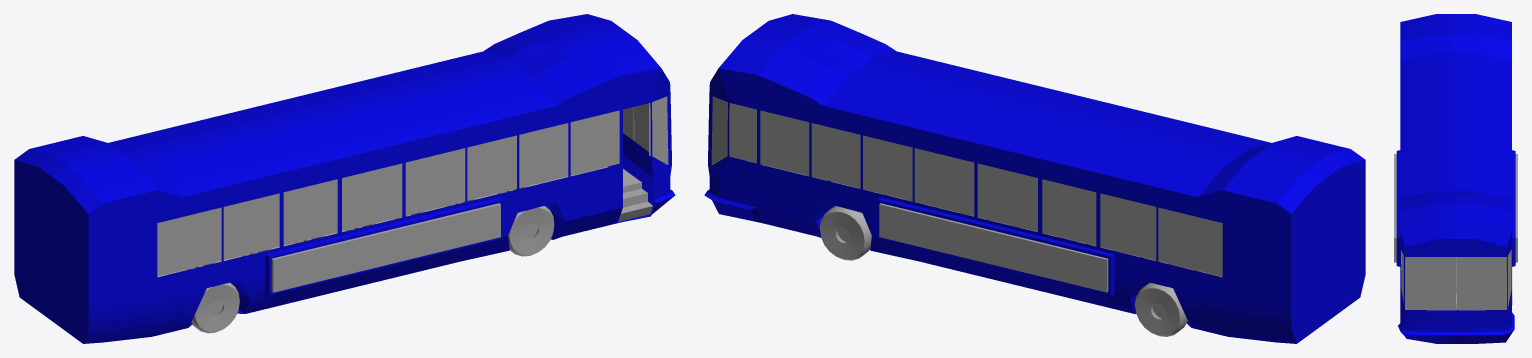
Rendered from bus.fbx.
The picture shows the model from 3 angles, left to right: view 1: azimuth 30°, elevation 25°; view 2: azimuth 150°, elevation 25°; view 3: azimuth 270°, elevation 25°; orthographic projection. The views are drawn at different scales.
Visible parts, largest first — view 1: Autobus:pCube26, Autobus:pCube23, Autobus:pCube25, Autobus:pPipe4, Autobus:pPipe3, Autobus:pCube3; view 2: Autobus:pCube26, Autobus:pCube23, Autobus:pCube24, Autobus:pPipe5, Autobus:pPipe6; view 3: Autobus:pCube26, Autobus:pCube23, Autobus:pCube24, Autobus:pCube25.
Part boxes in pixels (x1,y1,x2,y2): Autobus:pCube26: (14, 14, 675, 343); Autobus:pCube23: (157, 96, 668, 276); Autobus:pCube25: (271, 203, 500, 292); Autobus:pPipe4: (508, 206, 554, 256); Autobus:pPipe3: (191, 282, 239, 333); Autobus:pCube3: (168, 166, 652, 274); Autobus:pCube26: (704, 14, 1365, 343); Autobus:pCube23: (711, 96, 1222, 276); Autobus:pCube24: (879, 203, 1108, 292); Autobus:pPipe5: (819, 206, 871, 260); Autobus:pPipe6: (1135, 282, 1187, 336); Autobus:pCube26: (1396, 14, 1515, 343); Autobus:pCube23: (1401, 249, 1511, 309); Autobus:pCube24: (1515, 154, 1517, 262); Autobus:pCube25: (1394, 154, 1396, 262).
Size of the model in its own units: 18.88 by 5.38 by 4.54.
